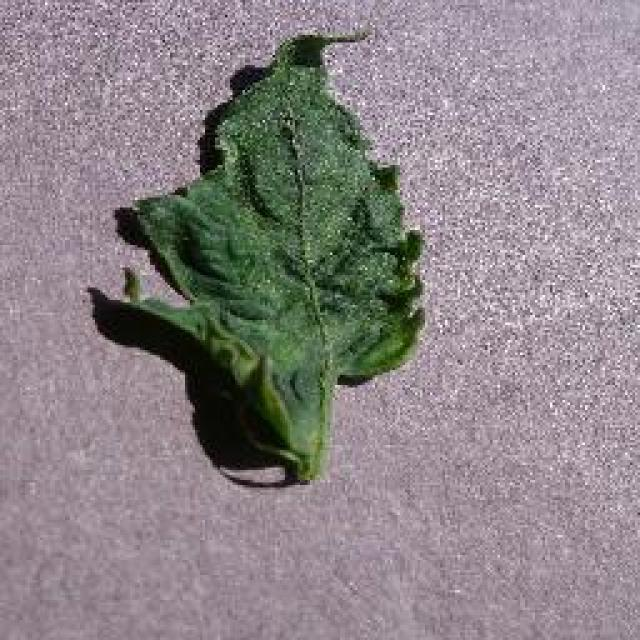Tomato___Tomato_mosaic_virus: (125, 35, 422, 480)
